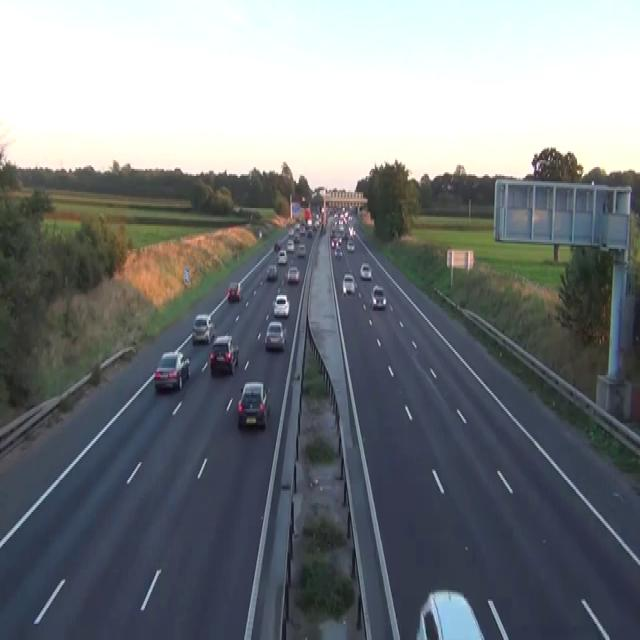Car: (415, 588, 485, 638), (237, 381, 269, 428), (154, 350, 190, 391), (330, 206, 356, 260), (209, 334, 239, 375), (264, 320, 286, 350), (192, 313, 214, 343), (221, 334, 239, 364), (371, 284, 386, 310), (272, 294, 289, 316), (342, 272, 356, 295), (227, 281, 242, 300), (359, 261, 372, 279), (287, 265, 299, 283), (330, 234, 342, 250), (266, 263, 277, 279), (277, 249, 287, 265), (346, 238, 355, 251), (334, 245, 343, 258), (286, 238, 294, 252), (297, 244, 306, 256), (232, 204, 241, 213), (330, 236, 336, 249), (349, 226, 356, 236), (274, 240, 280, 251), (299, 224, 305, 235), (306, 217, 312, 226), (293, 233, 299, 242), (294, 222, 300, 231), (336, 237, 342, 246), (288, 228, 294, 236), (446, 182, 452, 190), (307, 230, 312, 237), (258, 230, 262, 238)
